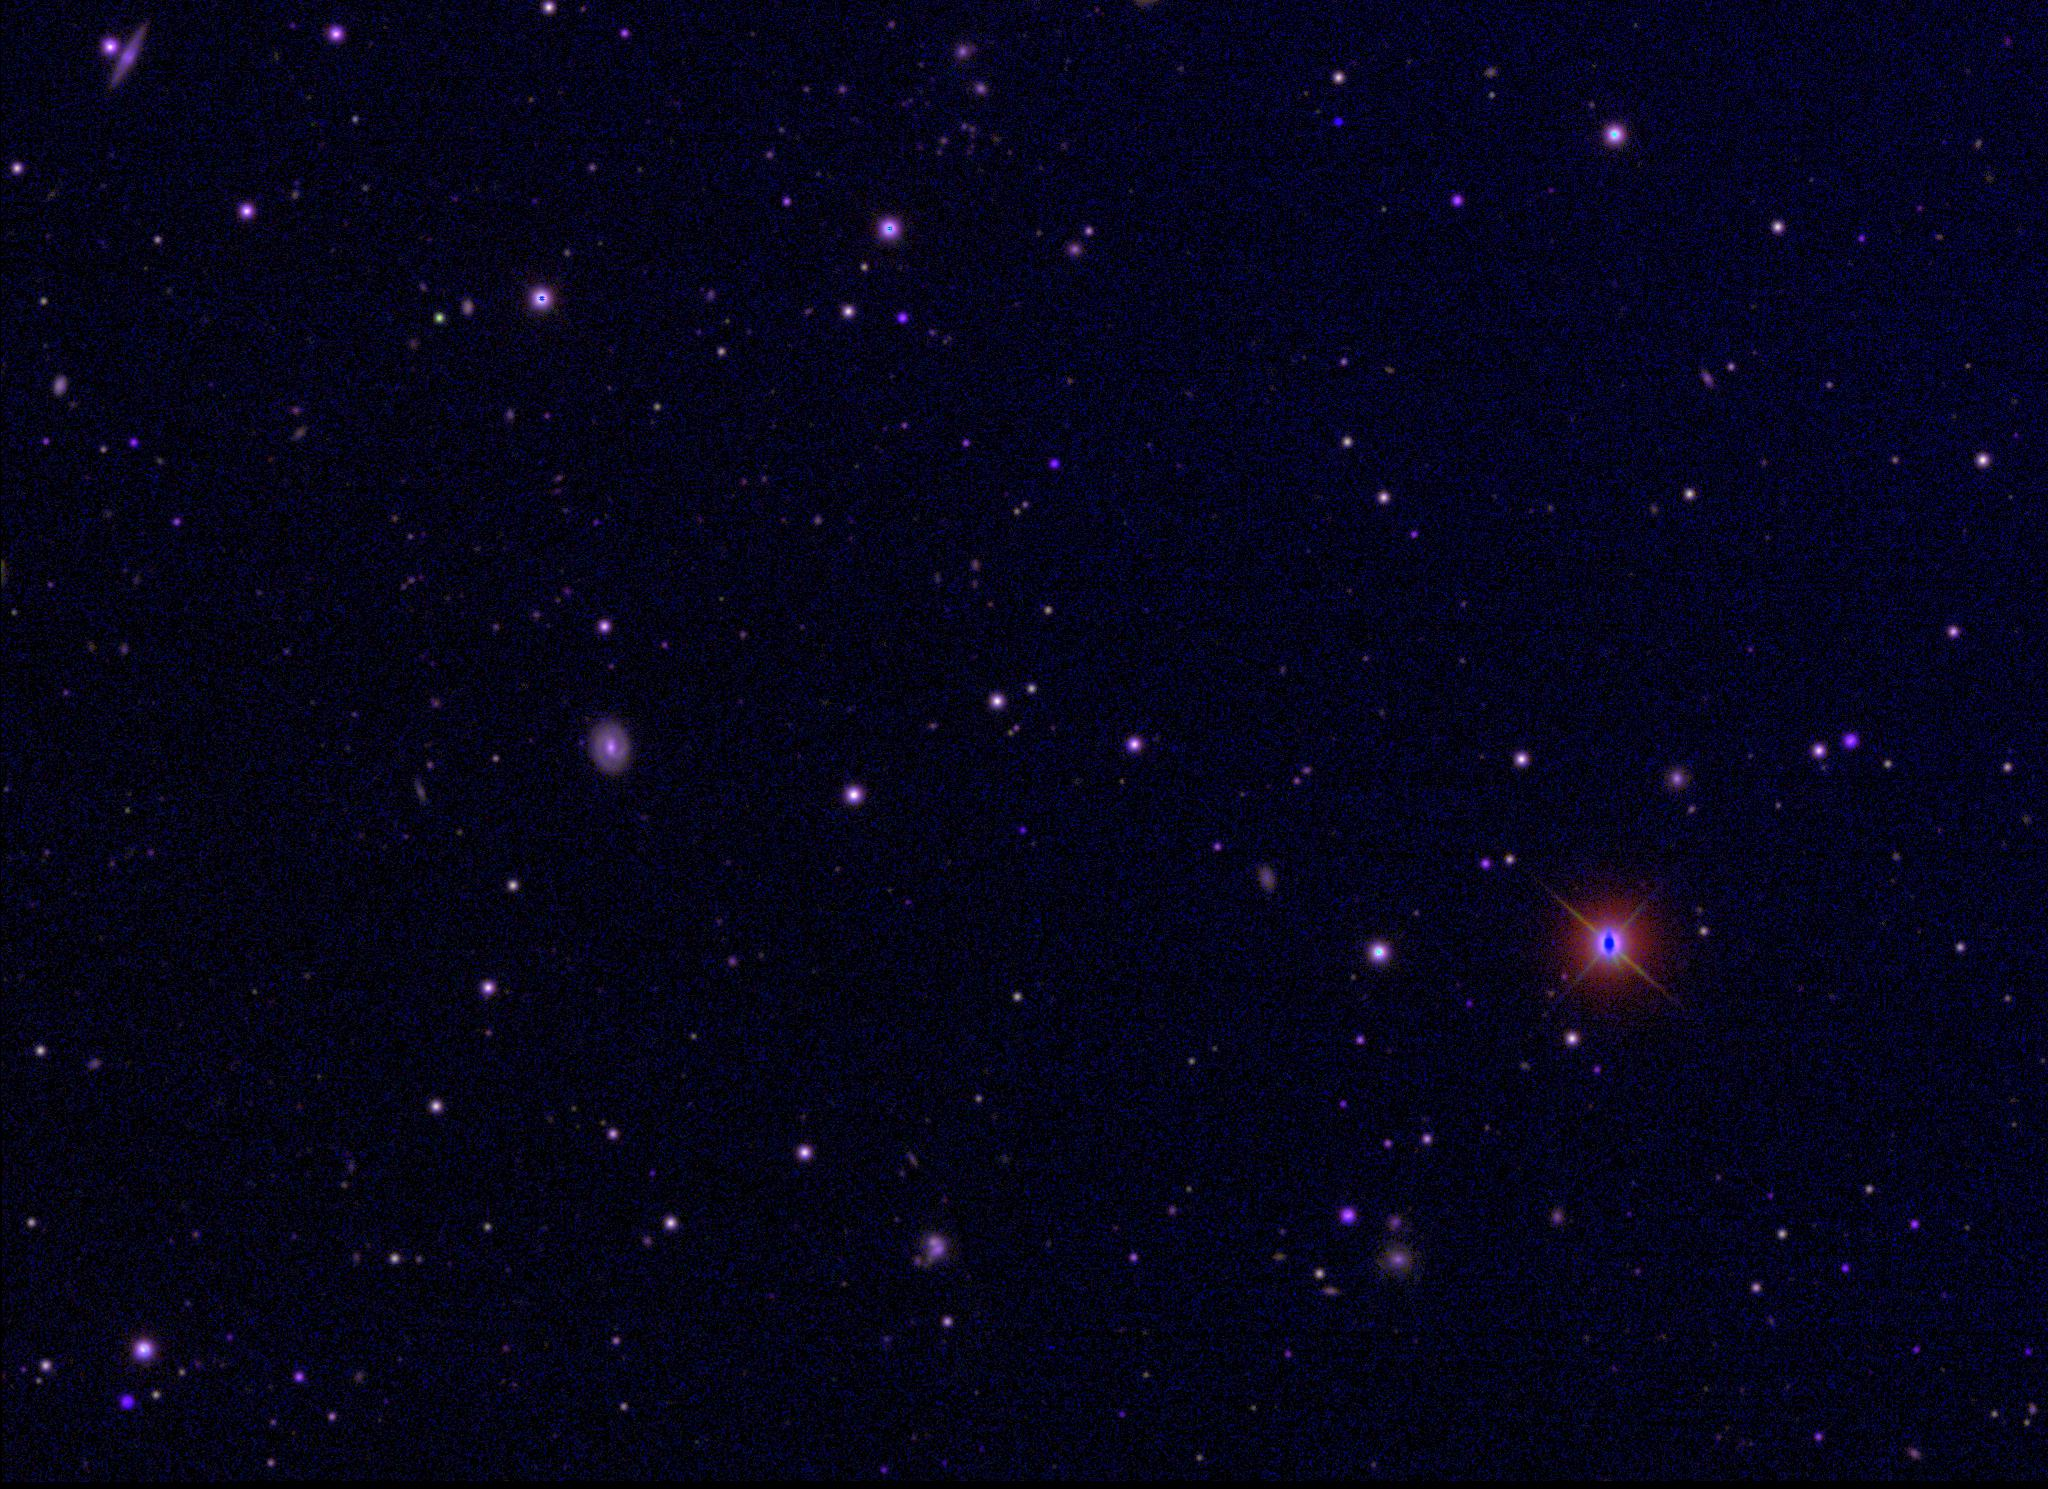L: (1331, 115, 1345, 129)
